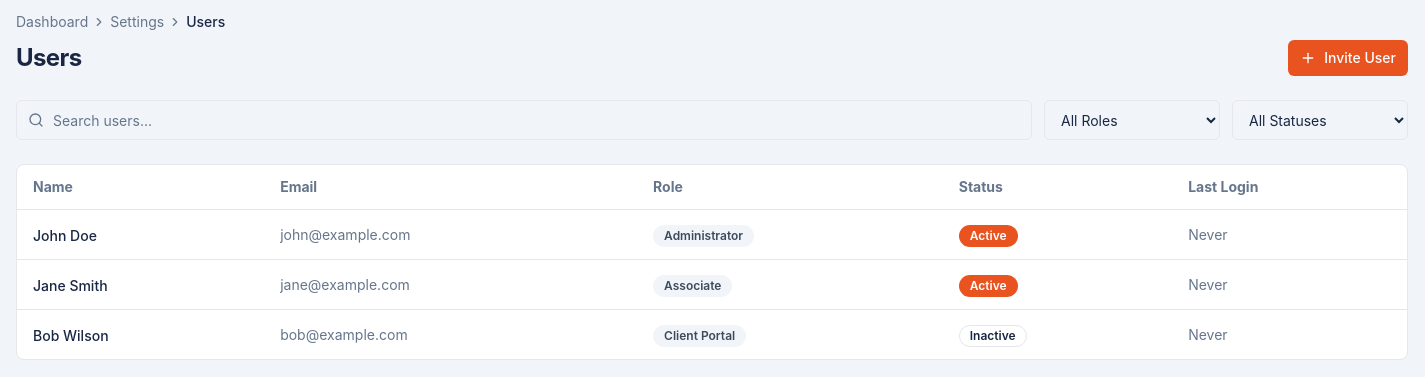
UsersView › filters users by status
Select "Inactive" in the dropdown named "Filter by status" at {"x": 1320, "y": 120}, box left=1232, top=100, right=1408, bottom=140
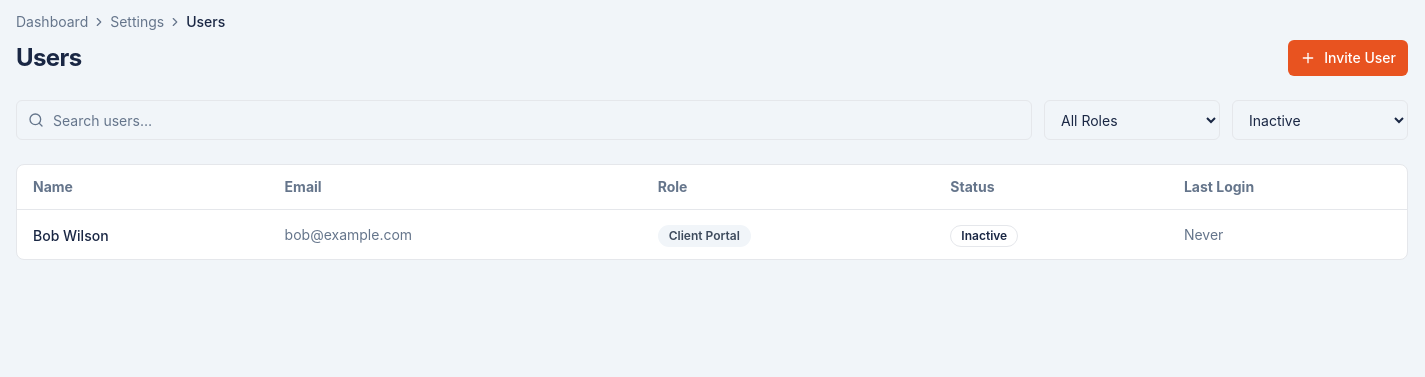
Check: the link "John Doe" is gone
